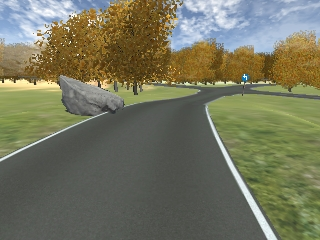left: (242, 74, 248, 81)
